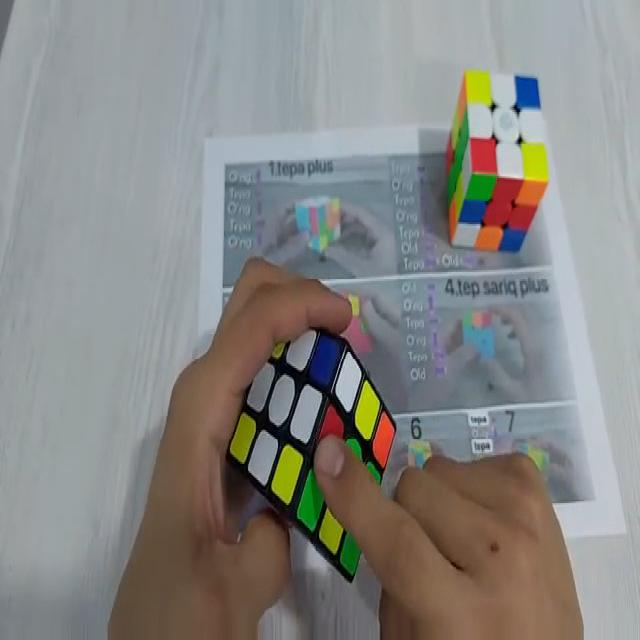Rub: (228, 322, 396, 580), (445, 69, 548, 249)
